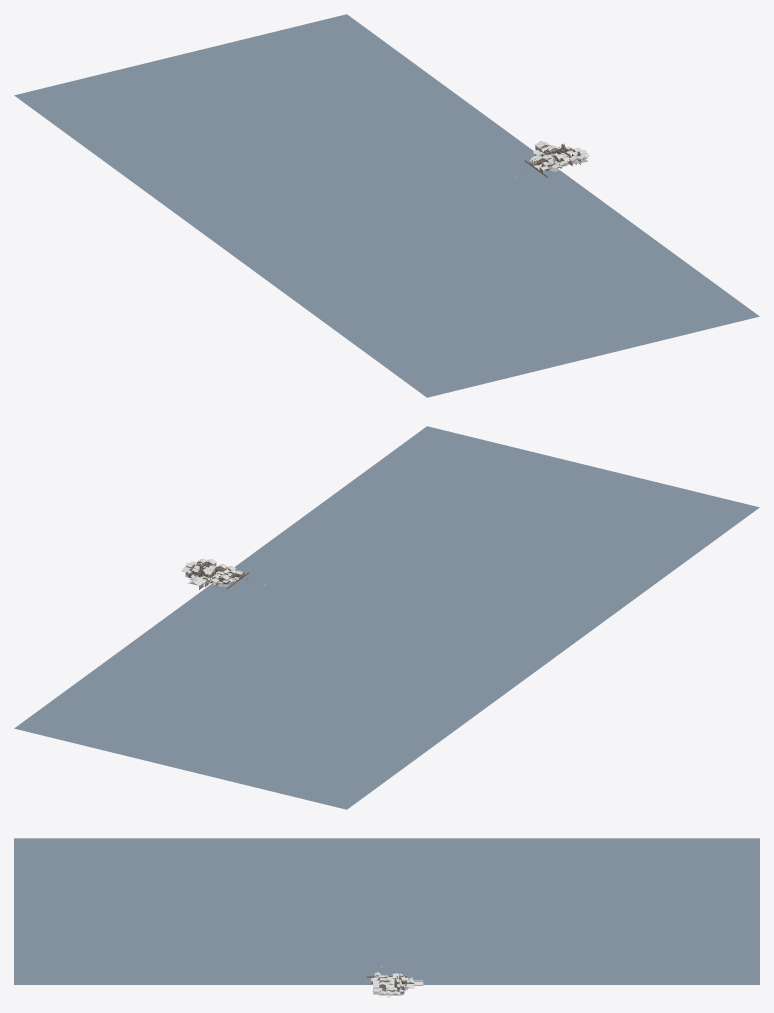
Rendered from subzero.glb.
3 renders of one model, top to bottom at view 1: azimuth 30°, elevation 25°; view 2: azimuth 150°, elevation 25°; view 3: azimuth 270°, elevation 25°, orthographic. The views are drawn at different scales.
Visible parts, largest first — view 1: subzero:0:-24:-12, subzero:0:-12:12; view 2: subzero:0:-24:-12, subzero:0:-12:12; view 3: subzero:0:-24:-12, subzero:0:-12:12.
Part boxes in pixels (<box>): subzero:0:-24:-12: <box>14,14,426,397</box>; subzero:0:-12:12: <box>347,14,759,397</box>; subzero:0:-24:-12: <box>14,507,759,809</box>; subzero:0:-12:12: <box>14,426,759,728</box>; subzero:0:-24:-12: <box>15,838,759,984</box>; subzero:0:-12:12: <box>14,838,758,984</box>.
Size of the model in its own units: 589 by 25.31 by 1152.
Materials: 22 (21 with a texture image).
